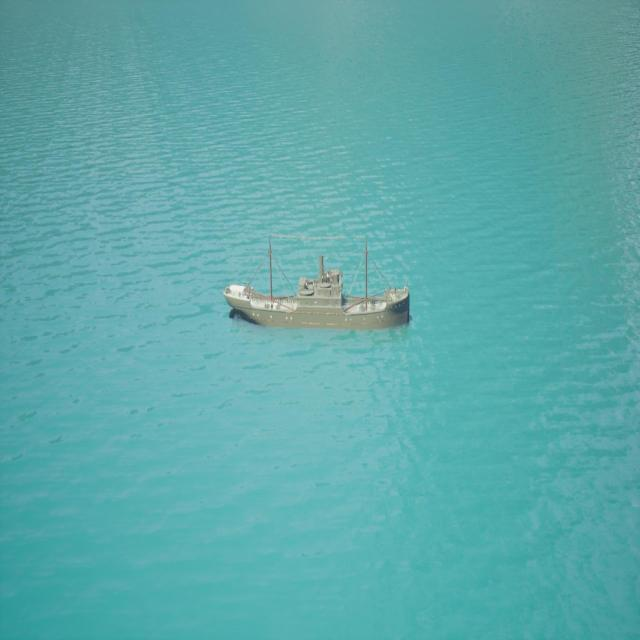fishing ship: (225, 238, 413, 331)
